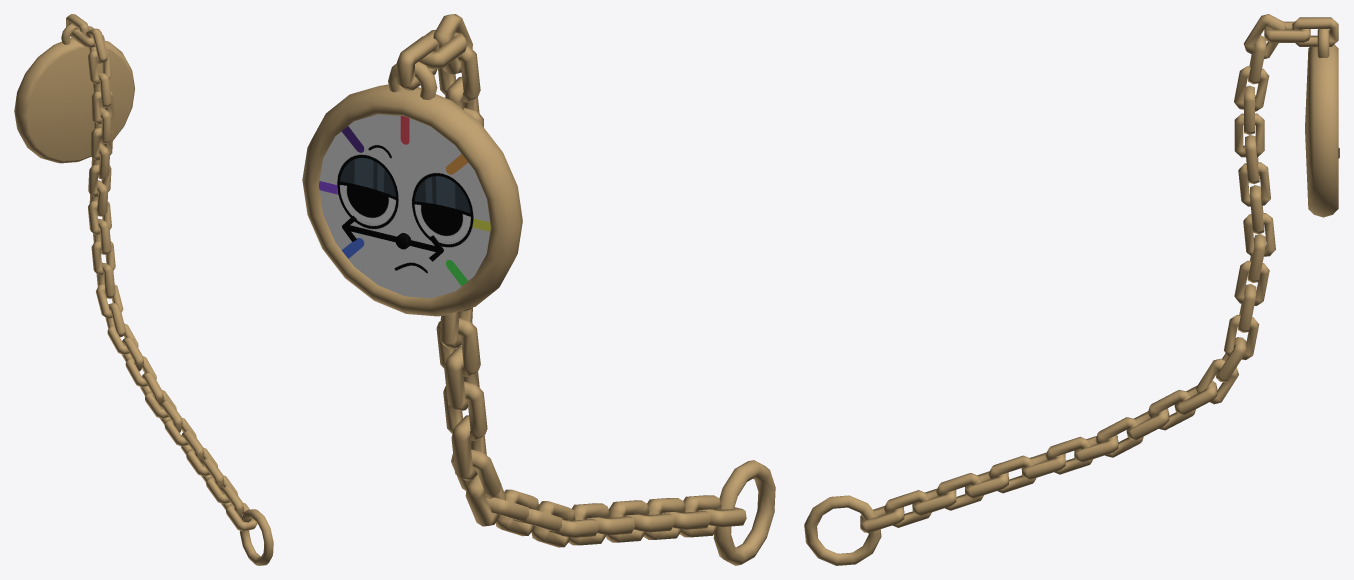
Rendered from Dyle.glb.
3 views of the same model, side by side, from view 1: azimuth 30°, elevation 25°; view 2: azimuth 150°, elevation 25°; view 3: azimuth 270°, elevation 25° (orthographic). The views are drawn at different scales.
Visible parts, largest first — view 1: Dyle; view 2: Dyle; view 3: Dyle.
Boxes of the visible parts, x1=… form: Dyle: x1=14, y1=14, x2=273, y2=565; Dyle: x1=302, y1=14, x2=775, y2=565; Dyle: x1=804, y1=14, x2=1339, y2=565.
Bounding box in the file's own units: 3.27 × 11.11 × 9.78.
Materials: 1 (1 with a texture image).
